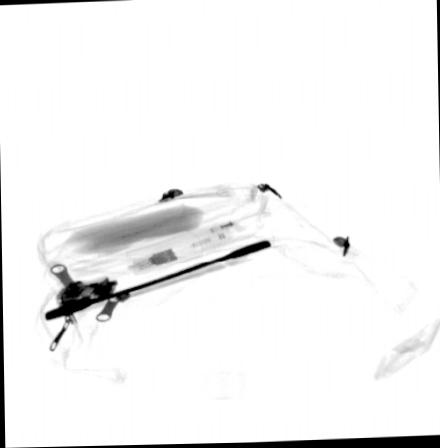Wrench: (42, 238, 272, 320)
